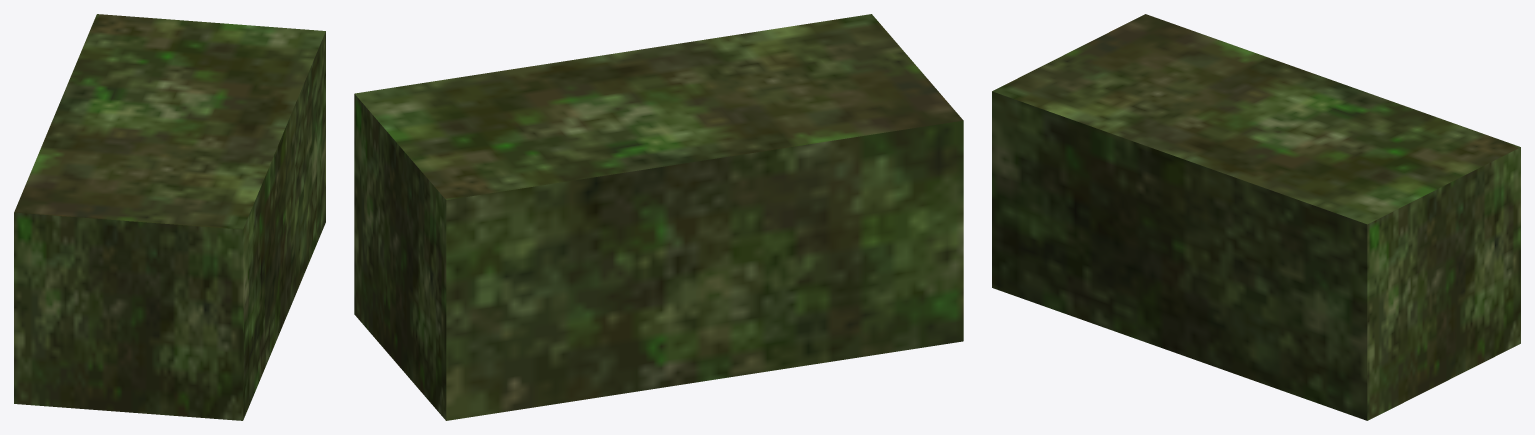
File: OVERHILL_A_01_STONE_BLOCK_32.fbx
The picture shows the model from 3 angles, left to right: view 1: azimuth 30°, elevation 25°; view 2: azimuth 150°, elevation 25°; view 3: azimuth 270°, elevation 25°; orthographic projection. The views are drawn at different scales.
Parts seen in each view (by area): view 1: OVERHILL_A_01_STONE_BLOCK_32; view 2: OVERHILL_A_01_STONE_BLOCK_32; view 3: OVERHILL_A_01_STONE_BLOCK_32.
Boxes of the visible parts, <box> form: OVERHILL_A_01_STONE_BLOCK_32: <box>14,14,325,420</box>; OVERHILL_A_01_STONE_BLOCK_32: <box>354,14,963,420</box>; OVERHILL_A_01_STONE_BLOCK_32: <box>992,14,1520,420</box>.
Size of the model in its own units: 16496 by 7183 by 17521.
1 material, 1 textured.
